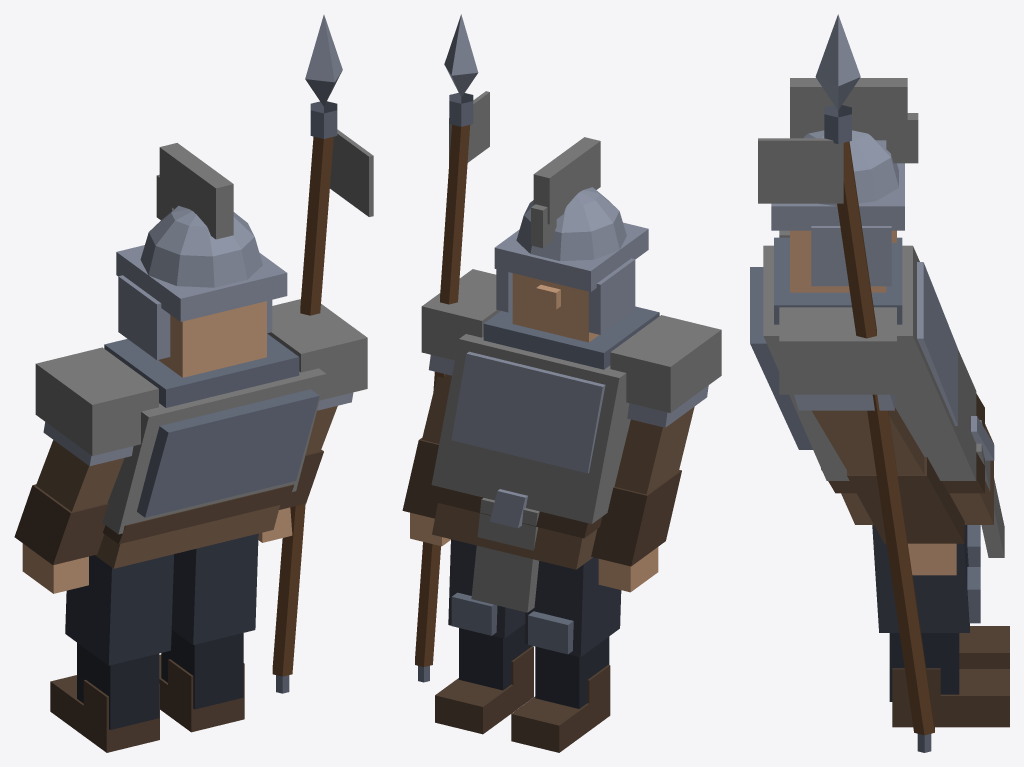
The model's file is infantry-attack-2.obj.
3 views of the same model, side by side, from view 1: azimuth 30°, elevation 25°; view 2: azimuth 150°, elevation 25°; view 3: azimuth 270°, elevation 25° (orthographic). The views are drawn at different scales.
Visible parts, largest first — view 1: infantry-attack-2; view 2: infantry-attack-2; view 3: infantry-attack-2.
Boxes of the visible parts, x1,y1,x2,y2 form: infantry-attack-2: (14,15,373,752); infantry-attack-2: (402,14,721,752); infantry-attack-2: (750,14,1009,752).
Size of the model in its own units: 1.25 by 3.06 by 0.9734.
